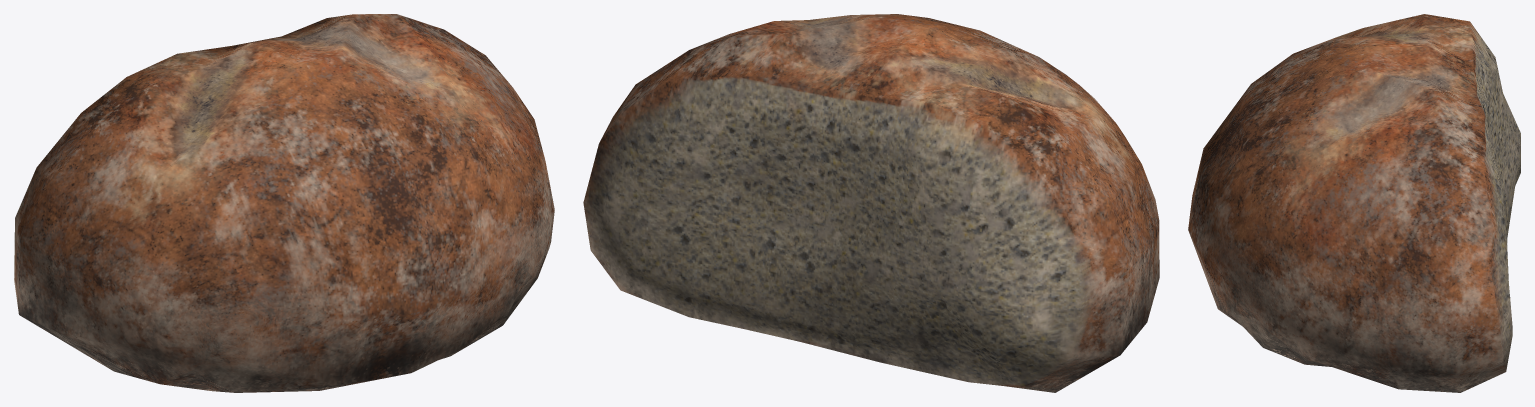
The model's file is CAMP_bread_half.fbx.
3 renders of one model, left to right at view 1: azimuth 30°, elevation 25°; view 2: azimuth 150°, elevation 25°; view 3: azimuth 270°, elevation 25°, orthographic. The views are drawn at different scales.
Visible parts, largest first — view 1: CAMP_bread_half; view 2: CAMP_bread_half; view 3: CAMP_bread_half.
Part boxes in pixels (<box>): CAMP_bread_half: <box>14,14,554,392</box>; CAMP_bread_half: <box>583,14,1159,392</box>; CAMP_bread_half: <box>1188,14,1520,392</box>.
Size of the model in its own units: 29.37 by 15.61 by 18.36.
